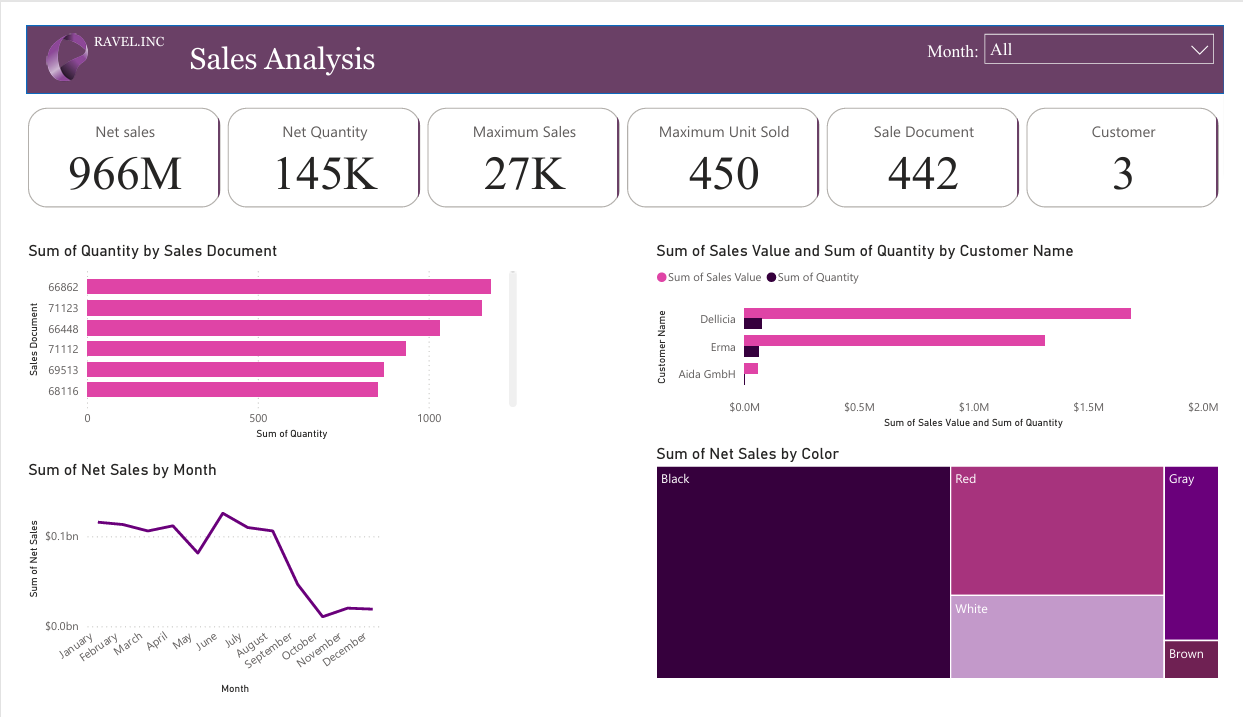

This screenshot's page, from the dashboard's own definition file:
{"tool":"powerbi","page":{"name":"Sales Analysis","canvas":[1280,720],"ordinal":0},"visuals":[{"type":"group","id":"g1","title":"Group 4","box":[3.2,0,1277.5,74.1],"z":0},{"type":"group","id":"g2","title":"Group 3","box":[3.2,1.4,1277.5,72.7],"z":0,"group":"g5"},{"type":"group","id":"g3","title":"Group 2","box":[3.2,1.4,1277.5,72.7],"z":0,"group":"g2"},{"type":"group","id":"g4","title":"Group 1","box":[3.2,1.4,1277.5,72.7],"z":0,"group":"g3"},{"type":"shape","box":[3.2,1.4,1277.5,72.7],"z":0,"group":"g4"},{"type":"group","id":"g5","title":"Group 5","box":[3.2,1.4,1277.5,72.7],"z":500,"group":"g1"},{"type":"slicer","fields":{"Values":["TableSales.Document Date.Variation.Date Hierarchy.Month"]},"box":[1015.4,0,264.8,63.1],"z":1000,"group":"g1"},{"type":"textbox","box":[70.5,4,101.8,36.4],"z":1000,"group":"g3"},{"type":"image","box":[3.2,5.7,88.3,64],"z":1000,"group":"g4"},{"type":"textbox","box":[171.8,13.8,272.3,56.2],"z":1000,"group":"g2"},{"type":"cardVisual","fields":{"Data":["TableSales.Total Net sale","TableSales.Net Quantity","TableSales.Max Sales","TableSales.Max Quantity","TableSales.Sales Customer Count","TableSales.Customer Count1"]},"box":[0,83.7,1280.3,116.6],"z":1000},{"type":"textbox","box":[958.9,13.8,78.4,39.7],"z":2000,"group":"g5"},{"type":"clusteredBarChart","fields":{"Category":["TableSales.Sales Document"],"Y":["Sum(TableSales.Quantity)"]},"box":[0,230.5,531,216.8],"z":2000},{"type":"lineChart","fields":{"Category":["TableSales.Document Date.Variation.Date Hierarchy.Year","TableSales.Document Date.Variation.Date Hierarchy.Quarter","TableSales.Document Date.Variation.Date Hierarchy.Month","TableSales.Document Date.Variation.Date Hierarchy.Day"],"Y":["Sum(TableSales.Net Sales)"]},"box":[0,465.2,388.3,255.2],"z":3000},{"type":"clusteredBarChart","fields":{"Category":["MasterCustomer.Customer Name"],"Y":["Sum(TableSales.Sales Value)","Sum(TableSales.Quantity)"]},"box":[669.6,230.5,610.6,205.8],"z":4000},{"type":"treemap","fields":{"Group":["MasterArticle.Color"],"Values":["Sum(TableSales.Net Sales)"]},"box":[669.6,447.3,610.6,255.2],"z":5000}]}

Visuals, with their boxes in screenshot pixels (x1, y1, x2, y2), scaled from the page's 1280x720 canvas onto the 1243x717 screenshot:
"Group 4" group: left=3, top=0, right=1242, bottom=74
"Group 3" group: left=3, top=1, right=1242, bottom=74
"Group 2" group: left=3, top=1, right=1242, bottom=74
"Group 1" group: left=3, top=1, right=1242, bottom=74
shape: left=3, top=1, right=1242, bottom=74
"Group 5" group: left=3, top=1, right=1242, bottom=74
slicer - TableSales.Document Date.Variation.Date Hierarchy.Month: left=986, top=0, right=1242, bottom=63
textbox: left=68, top=4, right=167, bottom=40
image: left=3, top=6, right=89, bottom=69
textbox: left=167, top=14, right=431, bottom=70
cardVisual - TableSales.Total Net sale x TableSales.Net Quantity: left=0, top=83, right=1242, bottom=199
textbox: left=931, top=14, right=1007, bottom=53
clusteredBarChart - TableSales.Sales Document x Sum(TableSales.Quantity): left=0, top=230, right=516, bottom=445
lineChart - TableSales.Document Date.Variation.Date Hierarchy.Year x TableSales.Document Date.Variation.Date Hierarchy.Quarter: left=0, top=463, right=377, bottom=716
clusteredBarChart - MasterCustomer.Customer Name x Sum(TableSales.Sales Value): left=650, top=230, right=1242, bottom=434
treemap - MasterArticle.Color x Sum(TableSales.Net Sales): left=650, top=445, right=1242, bottom=700
